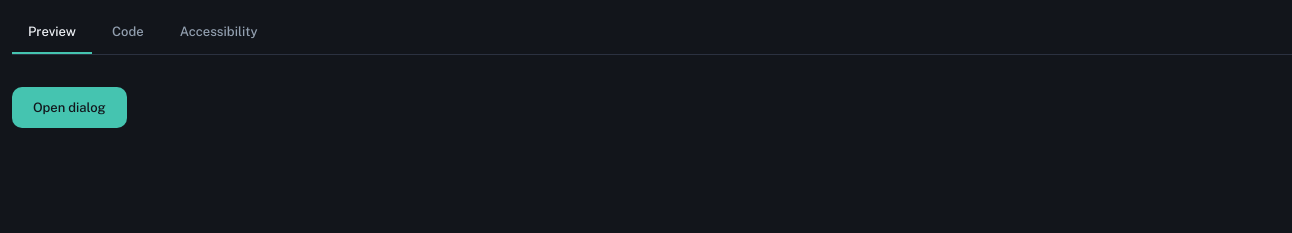
Scenario: DialogDoc › switches to the Accessibility tab and lists the a11y notes
Click the tab "Accessibility" at (219, 33), box [164,12,274,54]
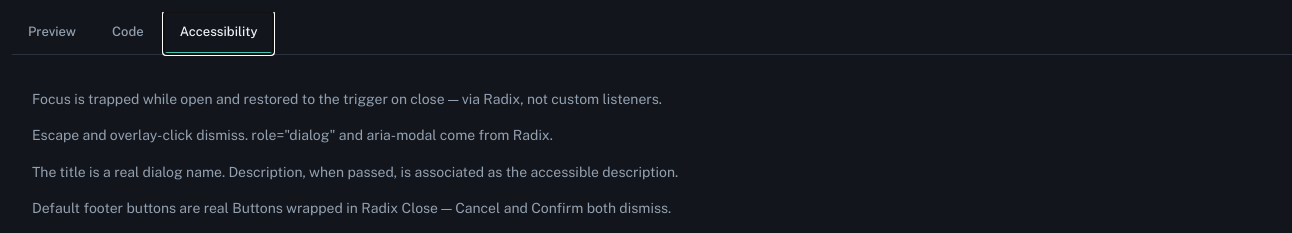
Expected: the list item "Focus is trapped" is shown, [32,90,662,106]
Expected: the list item "role=\"dialog\"" is shown, [32,127,553,143]
